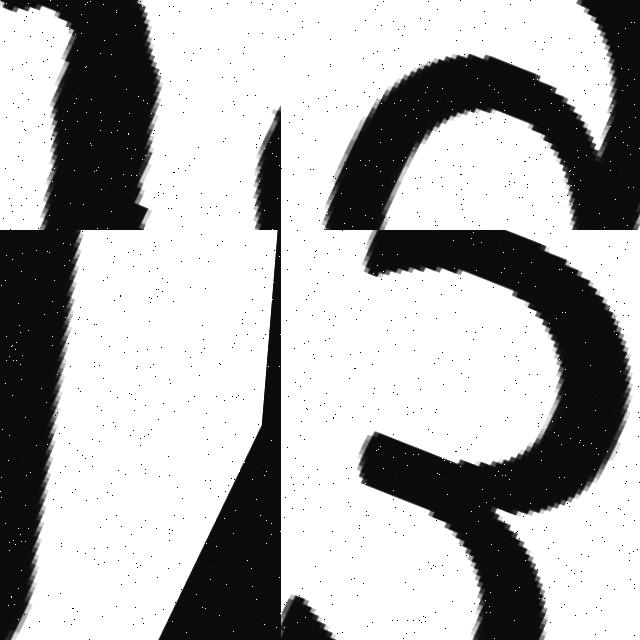3: (281, 230, 640, 640)
A: (0, 230, 250, 640)
G: (281, 0, 640, 230)
N: (0, 0, 281, 230)
